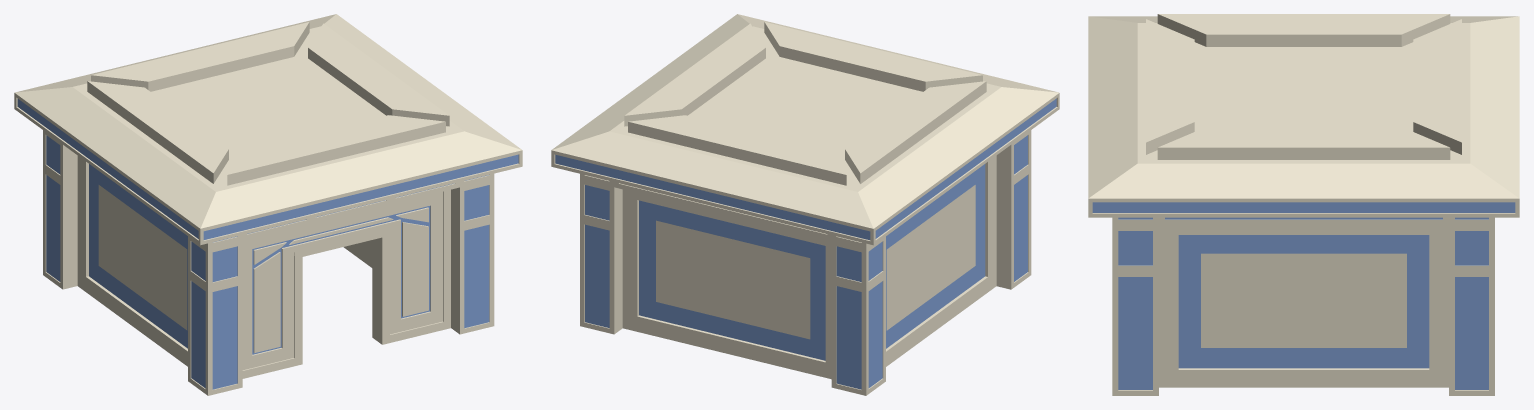
The model's file is P_LittleHouse.fbx.
3 views of the same model, side by side, from view 1: azimuth 30°, elevation 25°; view 2: azimuth 150°, elevation 25°; view 3: azimuth 270°, elevation 25° (orthographic). The views are drawn at different scales.
Parts seen in each view (by area): view 1: P_Little_roof, P_Little_House; view 2: P_Little_roof, P_Little_House; view 3: P_Little_roof, P_Little_House.
Part boxes in pixels (x1,y1,x2,y2): P_Little_roof: (14, 14, 522, 245); P_Little_House: (43, 130, 494, 395); P_Little_roof: (551, 14, 1059, 245); P_Little_House: (580, 130, 1031, 395); P_Little_roof: (1088, 14, 1519, 217); P_Little_House: (1112, 217, 1494, 395).
Bounding box in the file's own units: 654 × 392 × 654.
